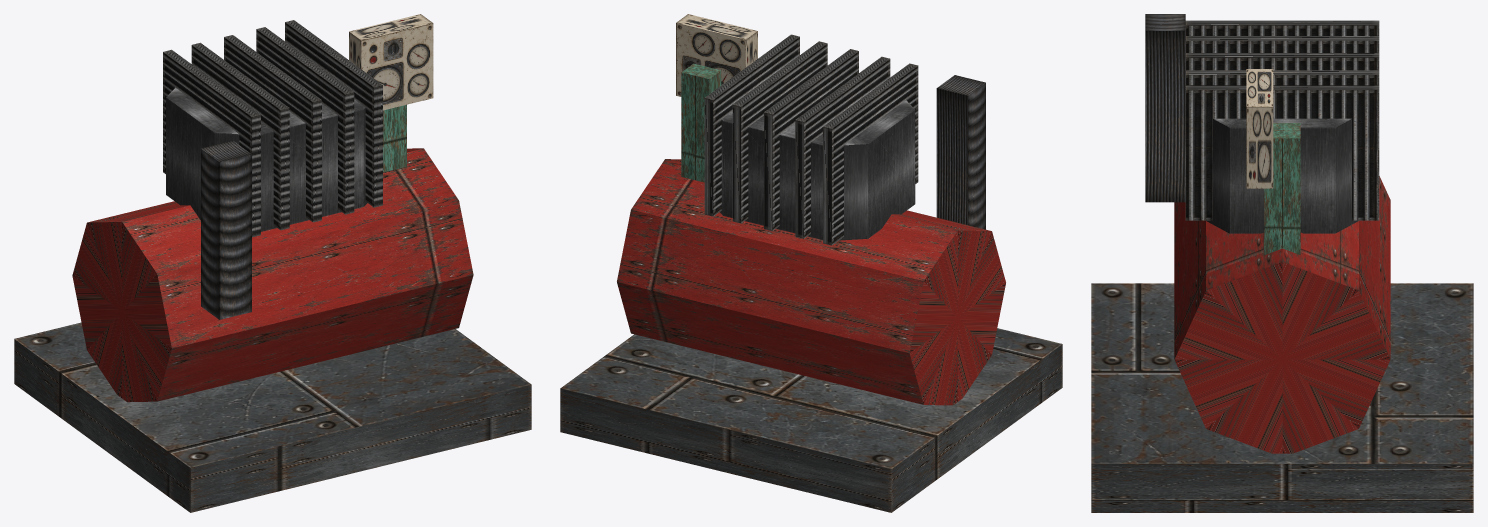
Rendered from compressor.obj.
The picture shows the model from 3 angles, left to right: view 1: azimuth 30°, elevation 25°; view 2: azimuth 150°, elevation 25°; view 3: azimuth 270°, elevation 25°; orthographic projection. The views are drawn at different scales.
Parts seen in each view (by area): view 1: compressor; view 2: compressor; view 3: compressor.
Part boxes in pixels (x1,y1,x2,y2): compressor: (14, 14, 531, 512); compressor: (560, 14, 1062, 512); compressor: (1091, 14, 1473, 512).
Bounding box in the file's own units: 0.95 × 0.96 × 0.85.
2 materials, 2 textured.
